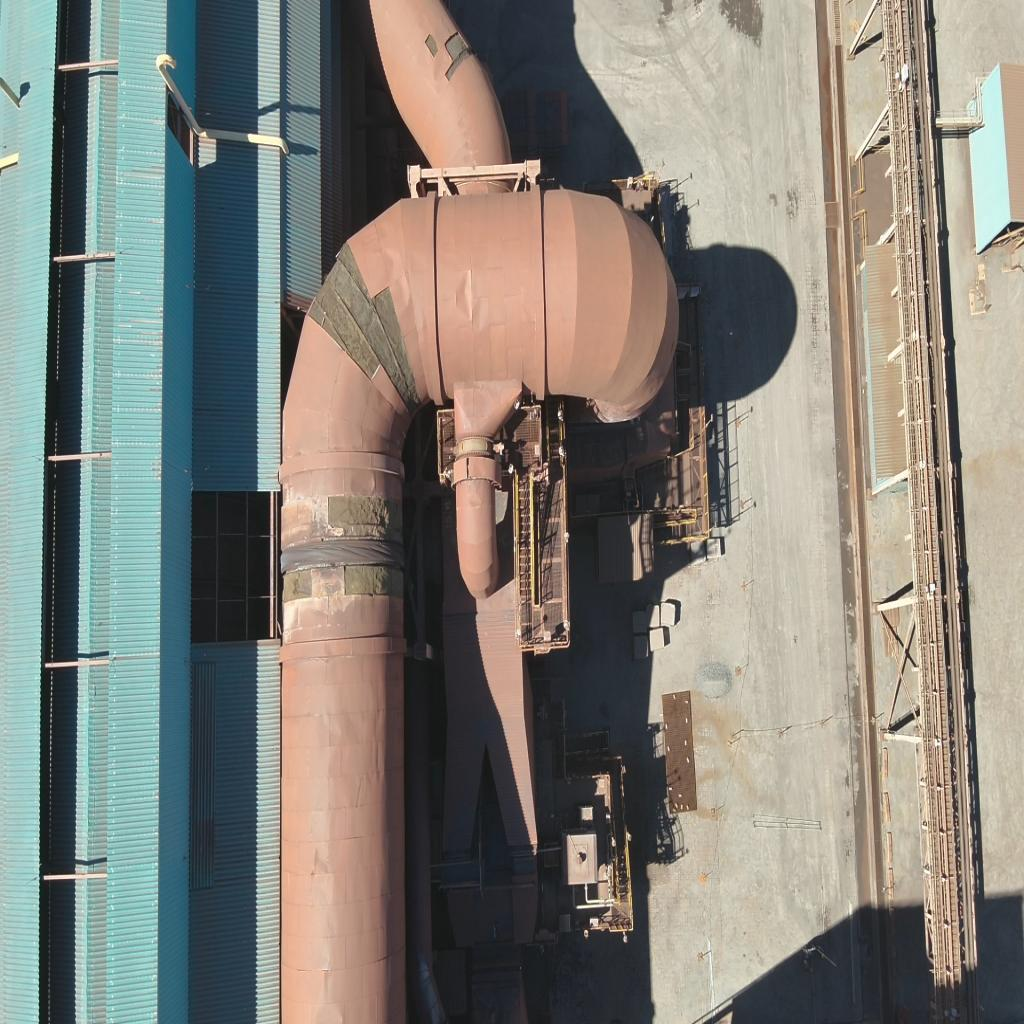Failures: (316, 238, 424, 416), (326, 485, 414, 536), (342, 562, 404, 600), (442, 35, 476, 77), (278, 567, 310, 604), (425, 27, 438, 58)
